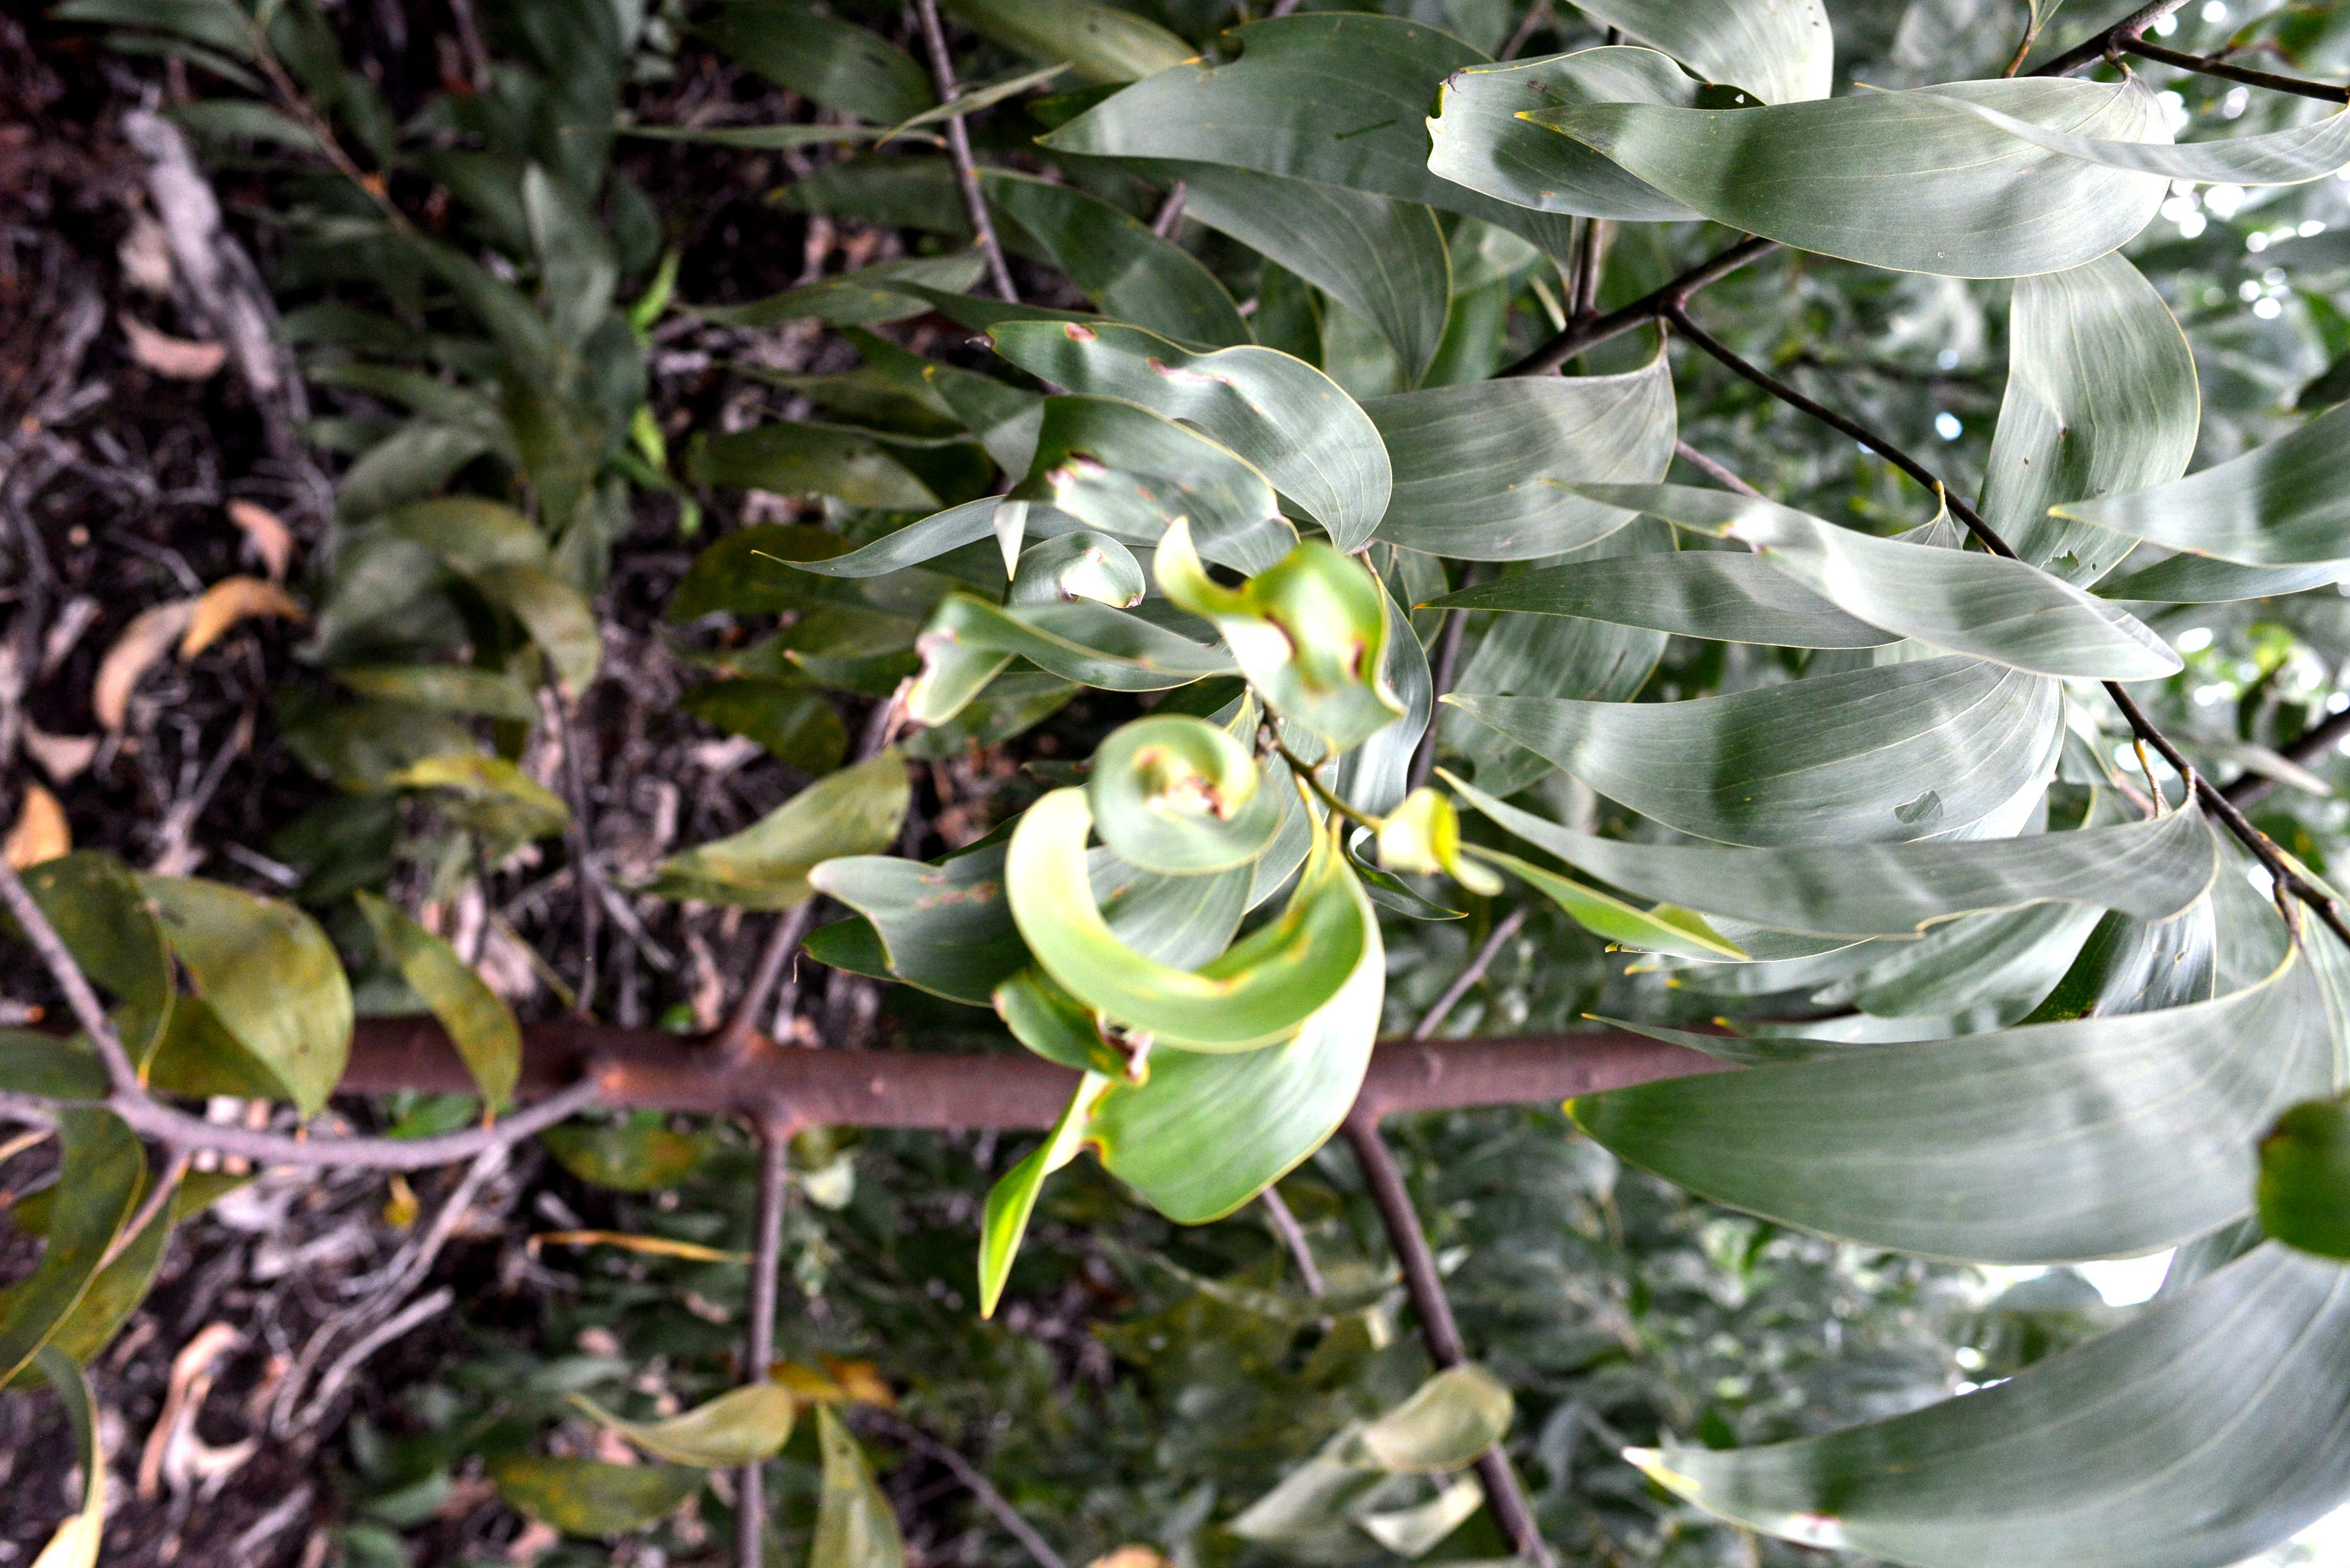Pasalora: (1571, 457, 2201, 696), (968, 1041, 1389, 1316), (994, 719, 1363, 1024), (983, 304, 1407, 495), (1130, 502, 1445, 700), (1335, 1340, 1508, 1459), (1386, 773, 1536, 903)
